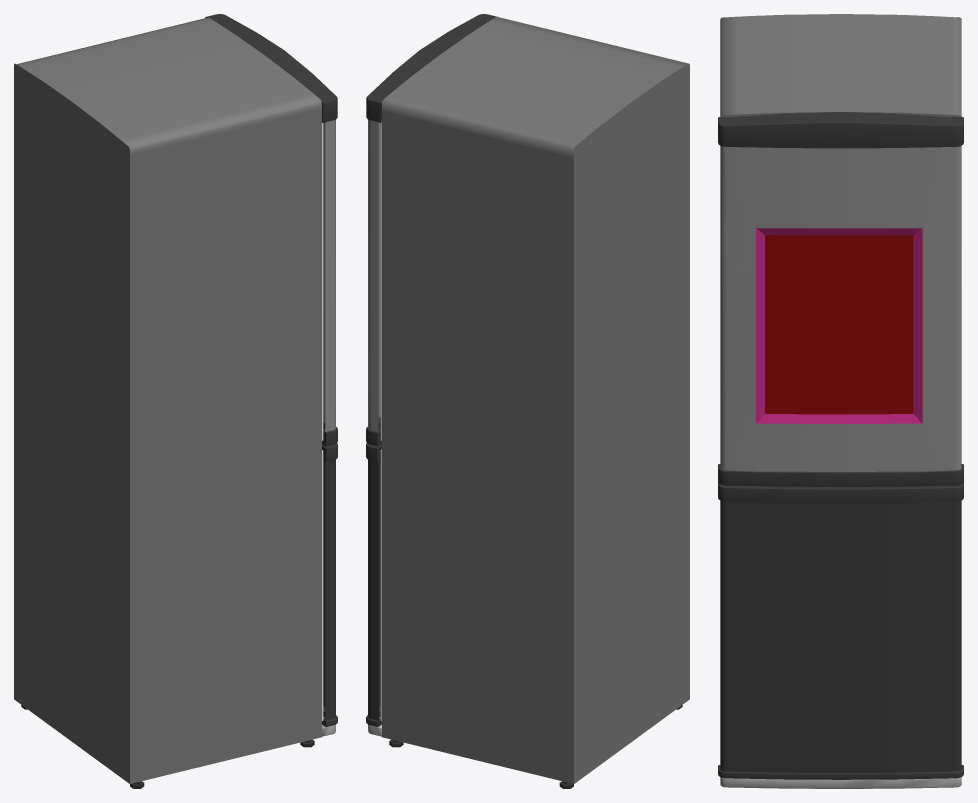
The model's file is fridge.FBX.
3 views of the same model, side by side, from view 1: azimuth 30°, elevation 25°; view 2: azimuth 150°, elevation 25°; view 3: azimuth 270°, elevation 25° (orthographic). The views are drawn at different scales.
Visible parts, largest first — view 1: frigo, porte_haut, porte_bas, frigo_objet_4, joint_haut; view 2: frigo, porte_haut, porte_bas, frigo_objet_4, joint_haut; view 3: porte_haut, porte_bas, frigo, frigo_objet_4, frigo_objet_2, frigo_objet_3, frigo_objet_1, frigo_objet_5.
Boxes of the visible parts, <box> form: frigo: <box>14,16,321,783</box>; porte_haut: <box>323,119,335,431</box>; porte_bas: <box>323,459,335,720</box>; frigo_objet_4: <box>205,14,337,122</box>; joint_haut: <box>322,123,323,440</box>; frigo: <box>382,16,689,783</box>; porte_haut: <box>368,119,380,431</box>; porte_bas: <box>368,459,380,720</box>; frigo_objet_4: <box>366,14,497,122</box>; joint_haut: <box>380,121,381,440</box>; porte_haut: <box>720,146,961,471</box>; porte_bas: <box>720,501,961,773</box>; frigo: <box>720,14,961,779</box>; frigo_objet_4: <box>718,112,963,148</box>; frigo_objet_2: <box>718,482,963,503</box>; frigo_objet_3: <box>718,464,963,486</box>; frigo_objet_1: <box>720,777,961,788</box>; frigo_objet_5: <box>718,765,963,779</box>.
Bounding box in the file's own units: 0.6826 × 1.98 × 0.6538.
